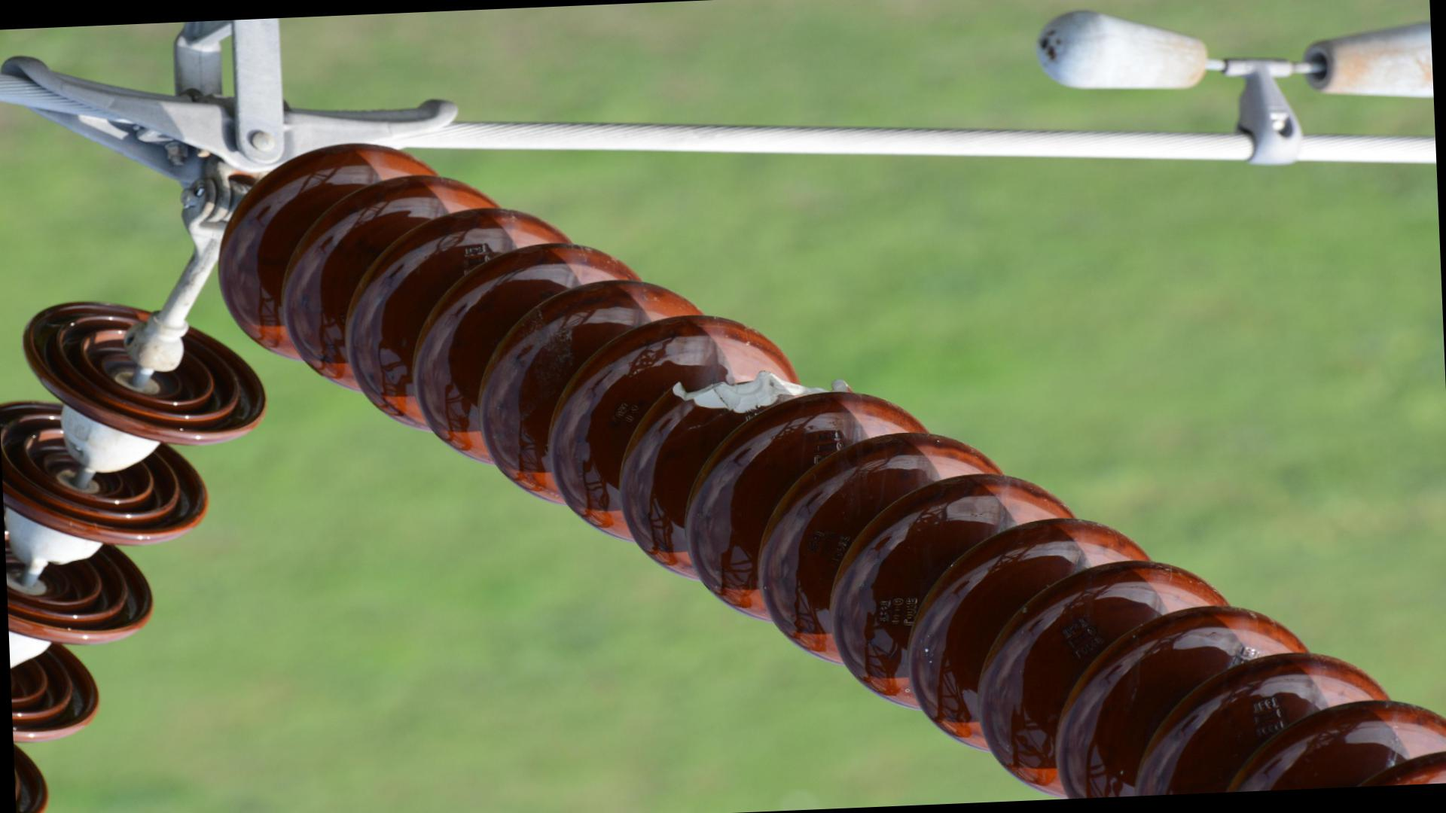damper: (1029, 1, 1446, 188)
